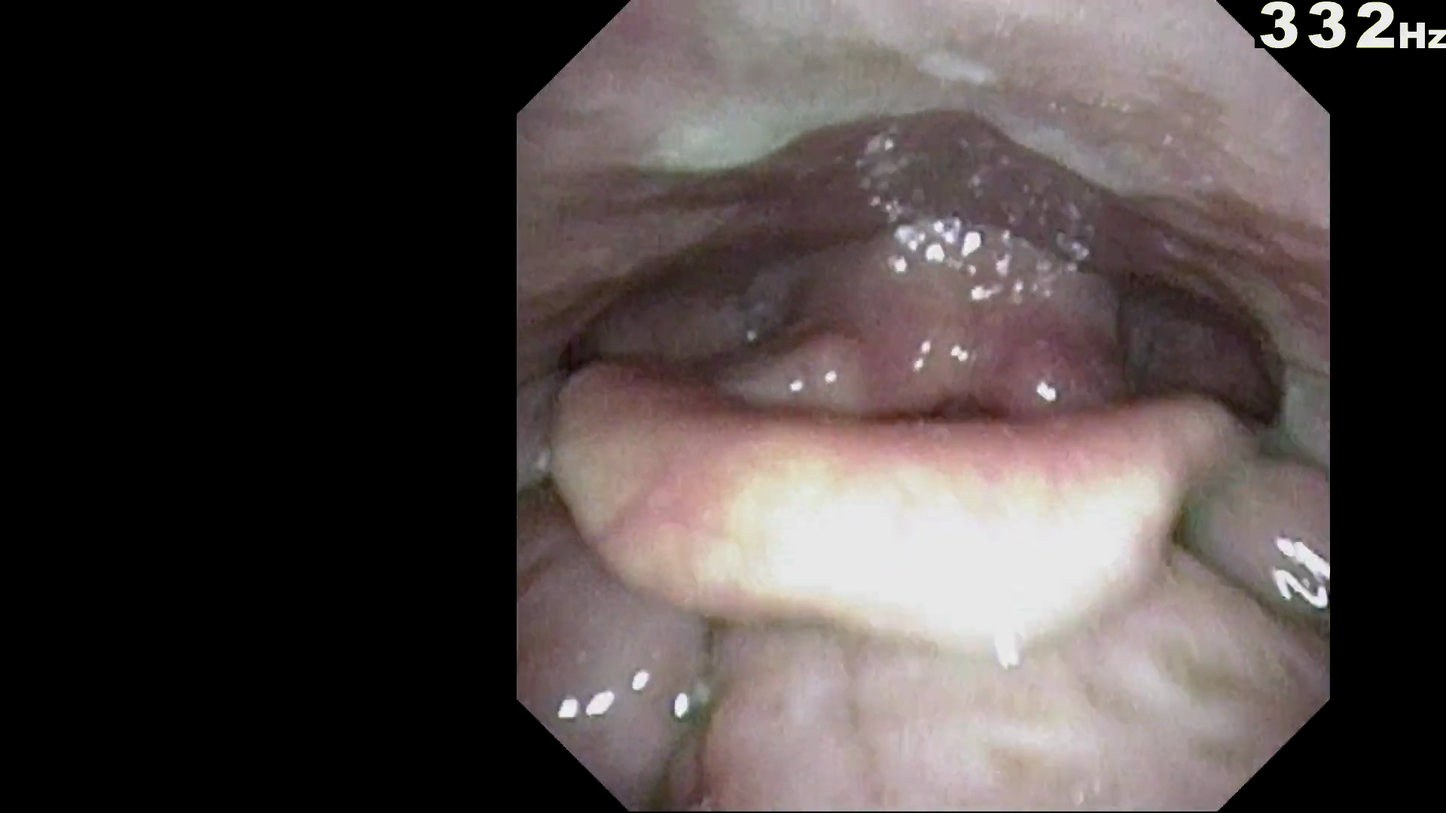epiglottis: (616, 305, 1229, 490)
